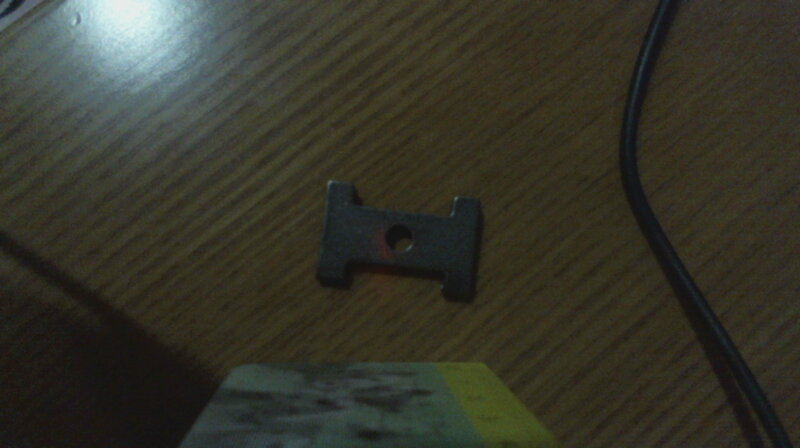O002: (316, 179, 483, 304)
